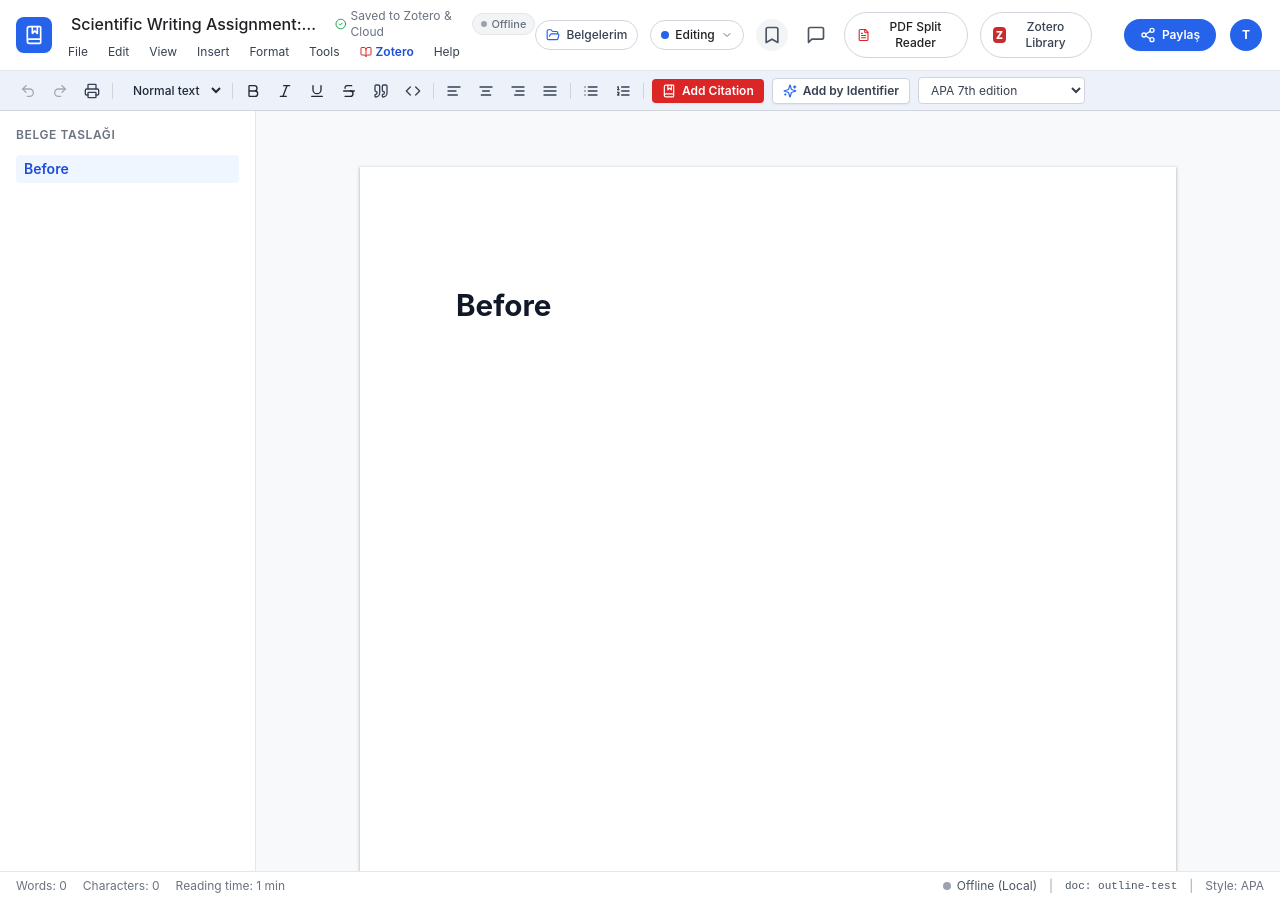
it: App document outline › reopens the sidebar with the latest document
expect the field with class "tiptap" is shown: met, box [456,287,552,323]
What coordinates should you click on to do the following:
click the button titled "Belge Taslağını Aç/Kapat"
I would click on:
 (772, 35)
Its box is [756,19,788,51].
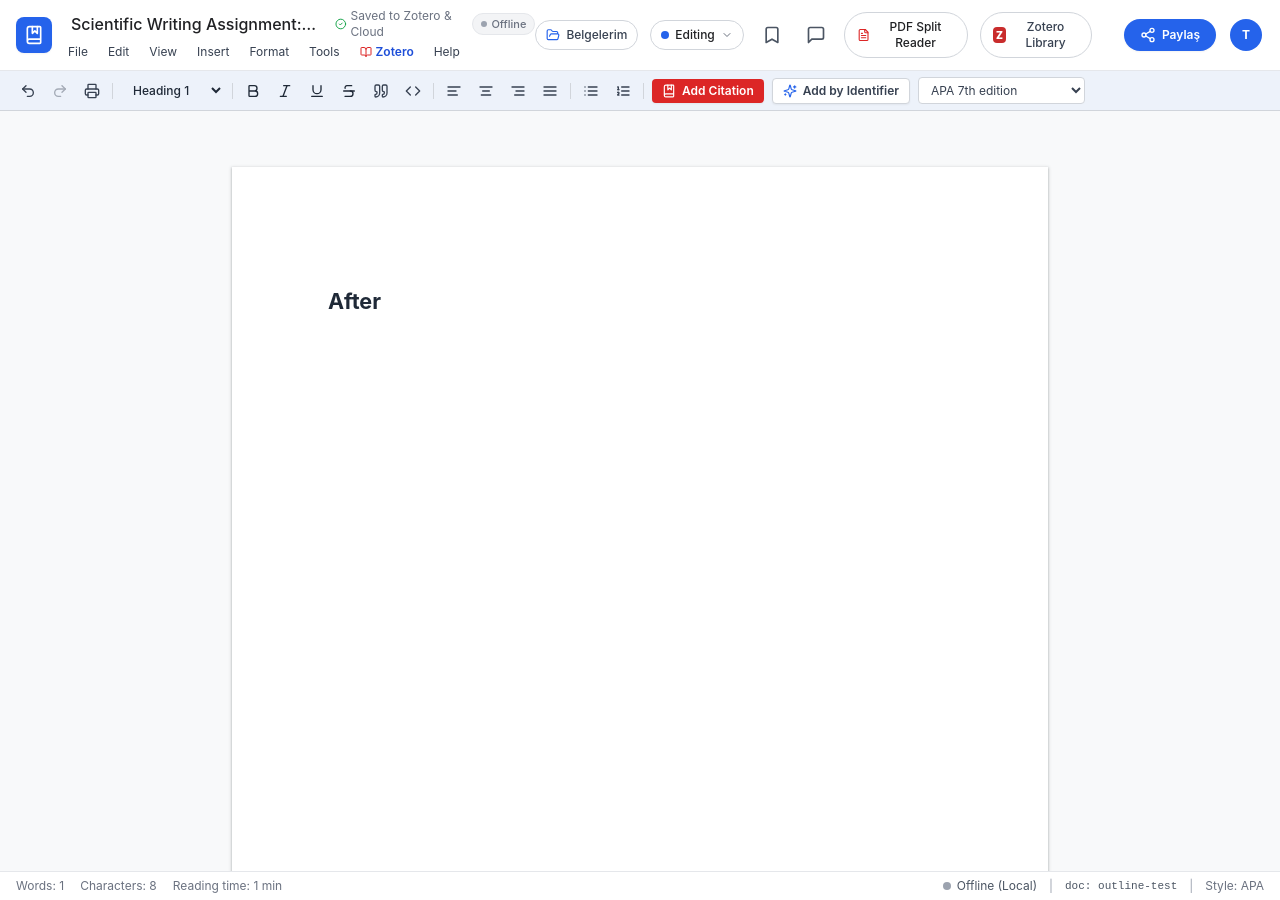
expect the heading "Belge Taslağı" is gone: met
What coordinates should you click on to do the following:
click the button titled "Belge Taslağını Aç/Kapat"
I would click on:
 (772, 35)
Its box is [756,19,788,51].
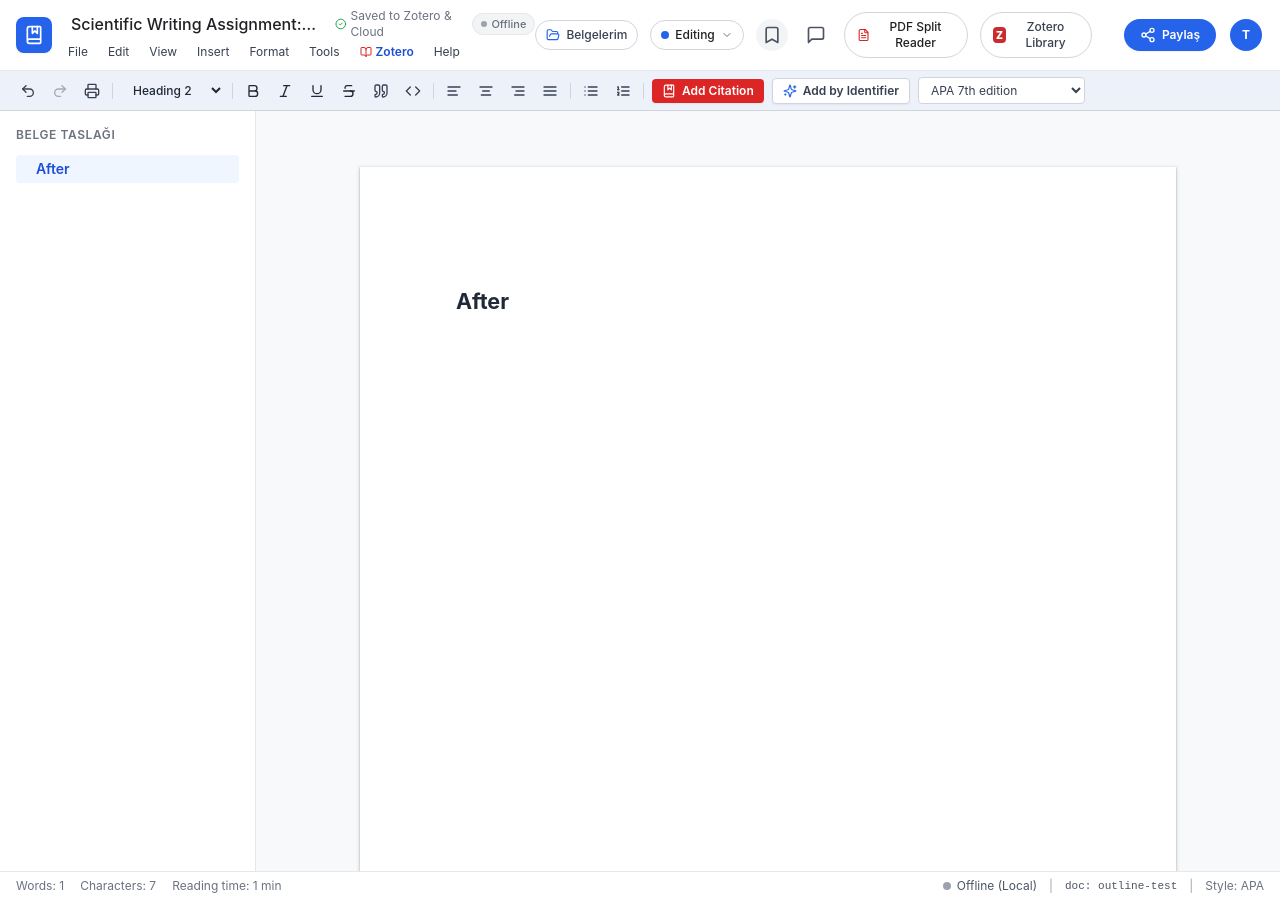
expect the button "After" is shown: met, box [16,155,239,183]
